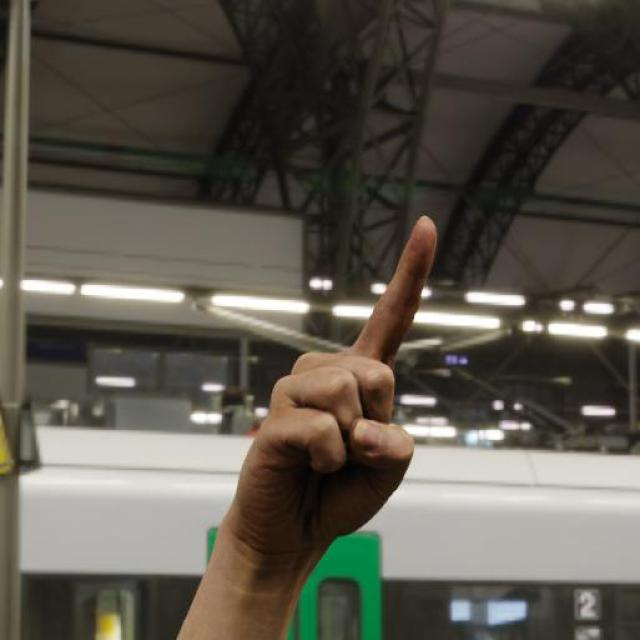Z: (244, 207, 450, 608)
